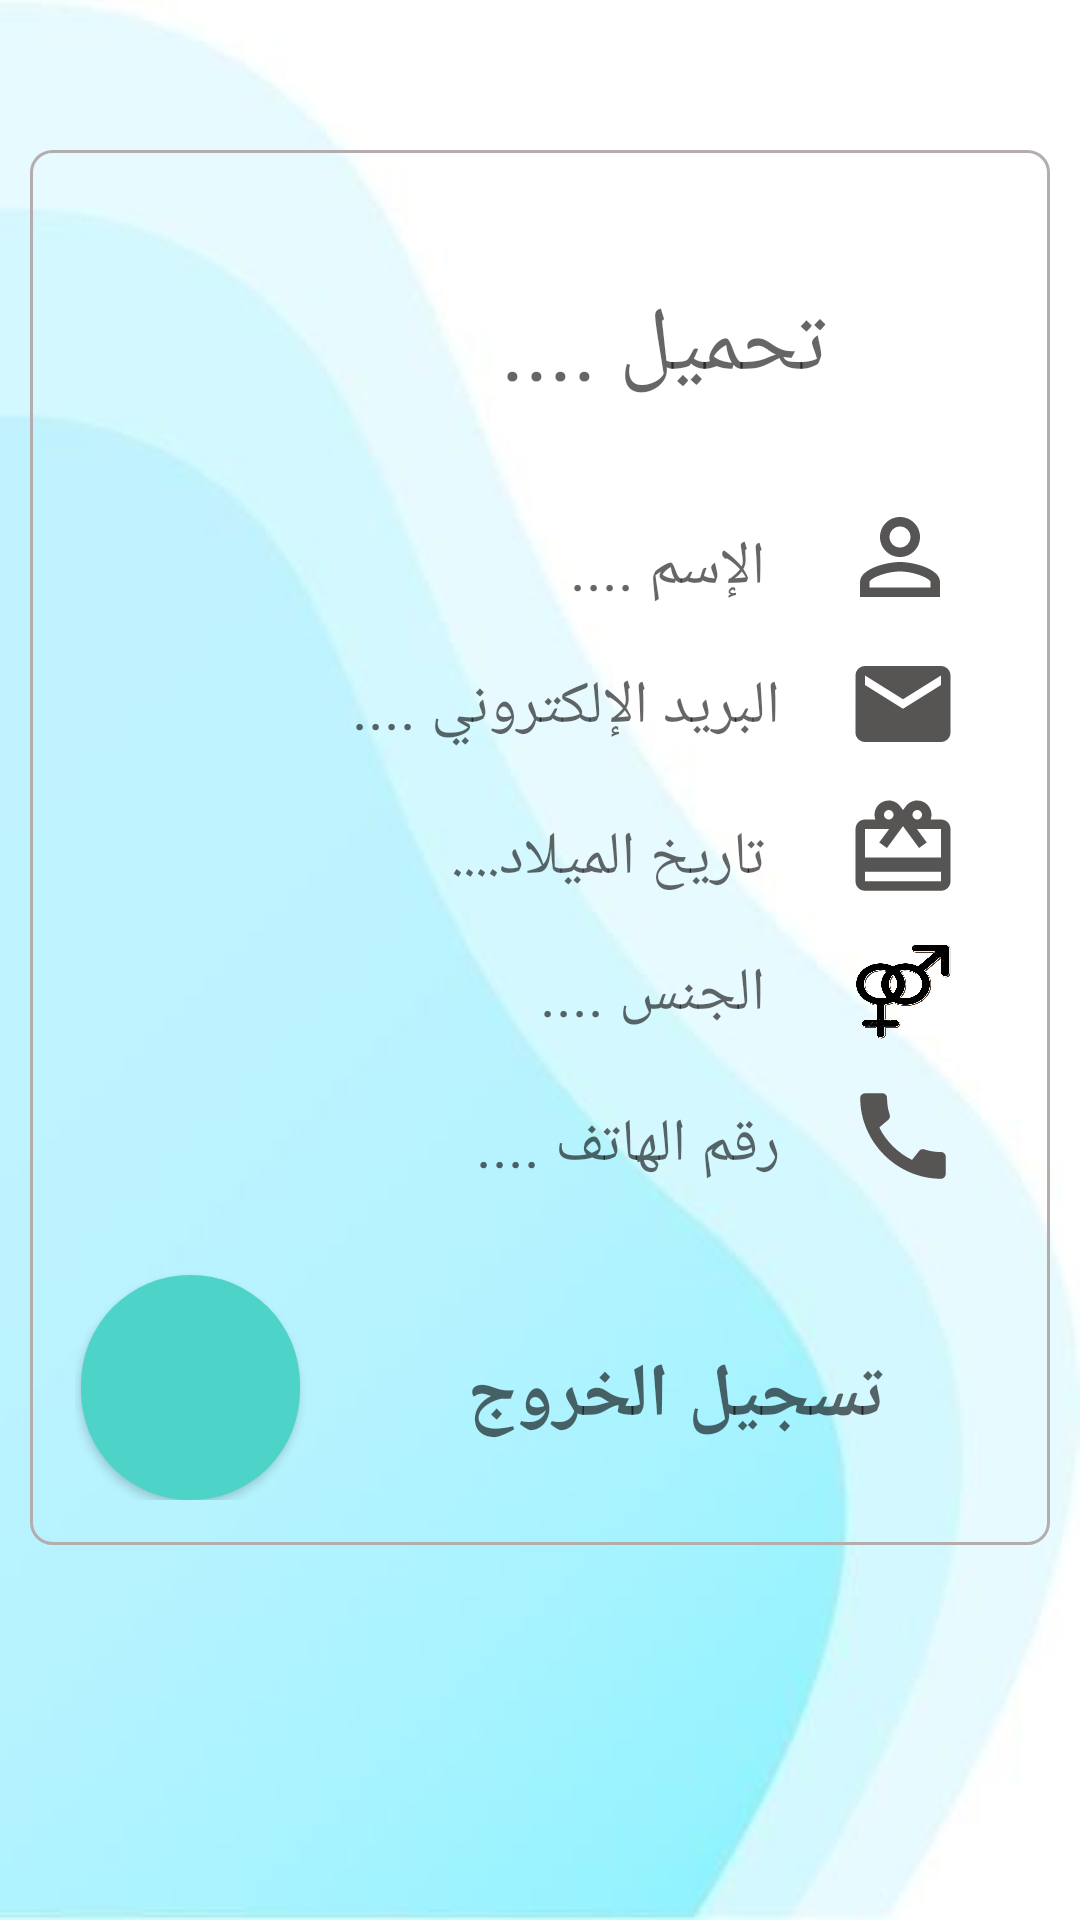

Icon bounding boxes for this 1080×1920 phone screenshot, format (x1, y1, x2, y2):
card giftcard: (855, 800, 951, 891)
email: (855, 666, 951, 742)
genderj: (846, 945, 951, 1039)
phone: (860, 1093, 946, 1179)
profile: (860, 517, 940, 597)
